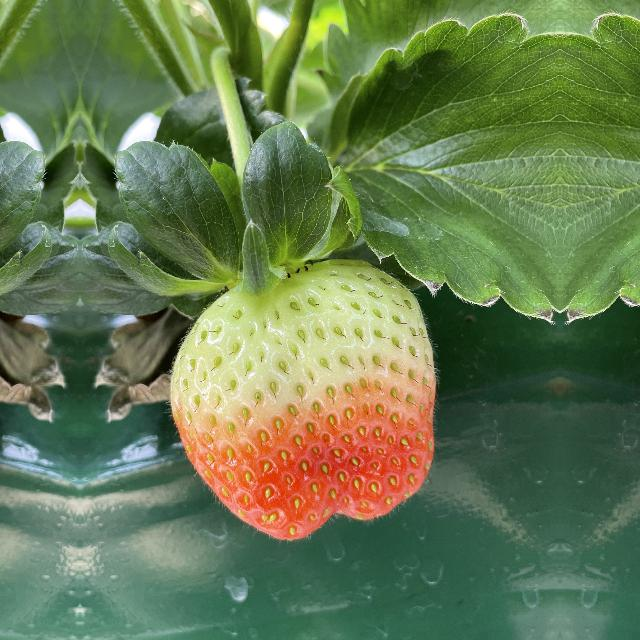Health_75: (174, 251, 454, 539)
